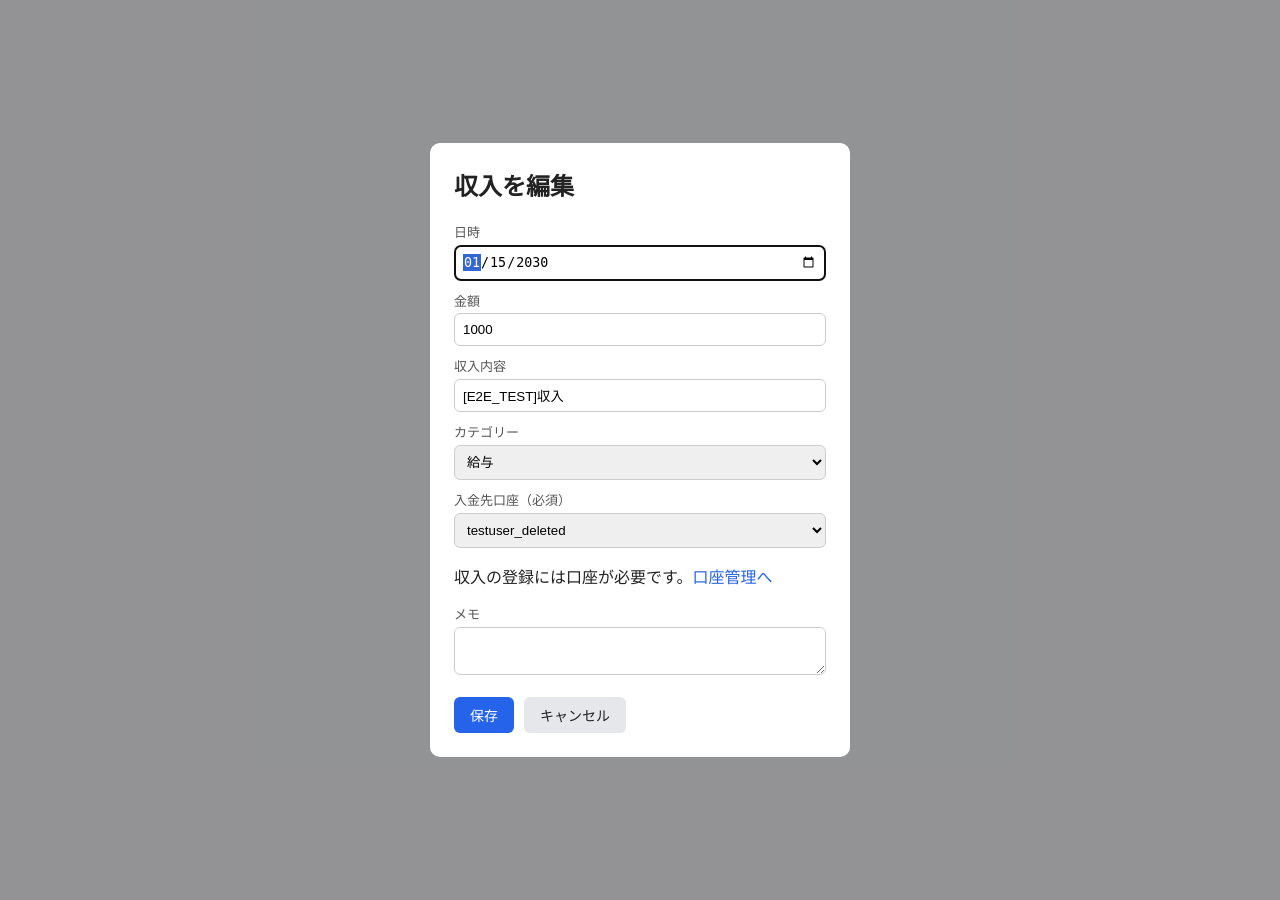
Test case: TransactionModal 編集 #277 › 削除済み口座を初期表示し、PUTの409を表示する
Expected: the dropdown labelled "入金先口座（必須）" shows "testuser_deleted", left=454, top=513, right=826, bottom=548
Click the button "保存" at x=484, y=714, box left=454, top=696, right=514, bottom=732
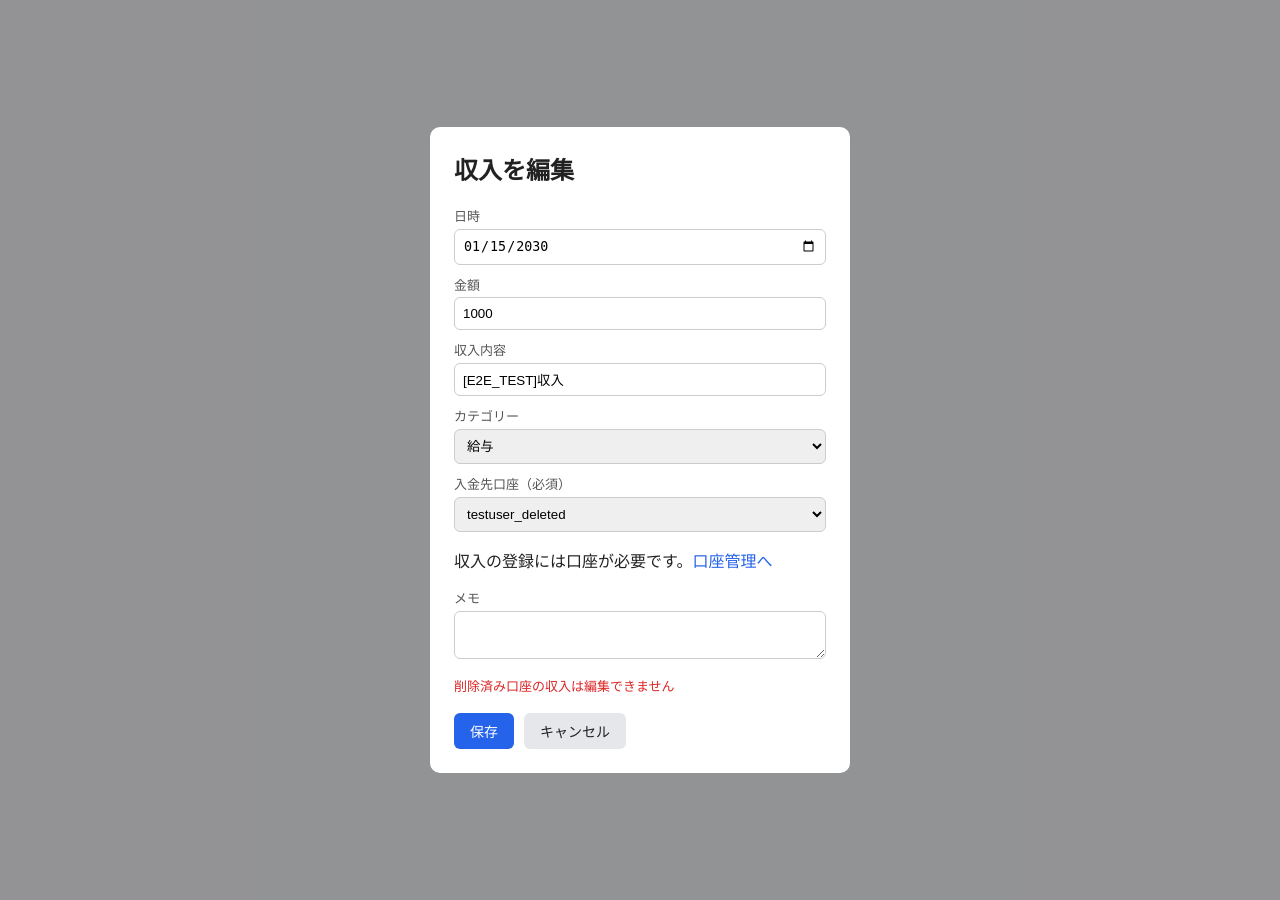
Expected: the message reads "削除済み口座の収入は編集できません", left=454, top=678, right=675, bottom=694
